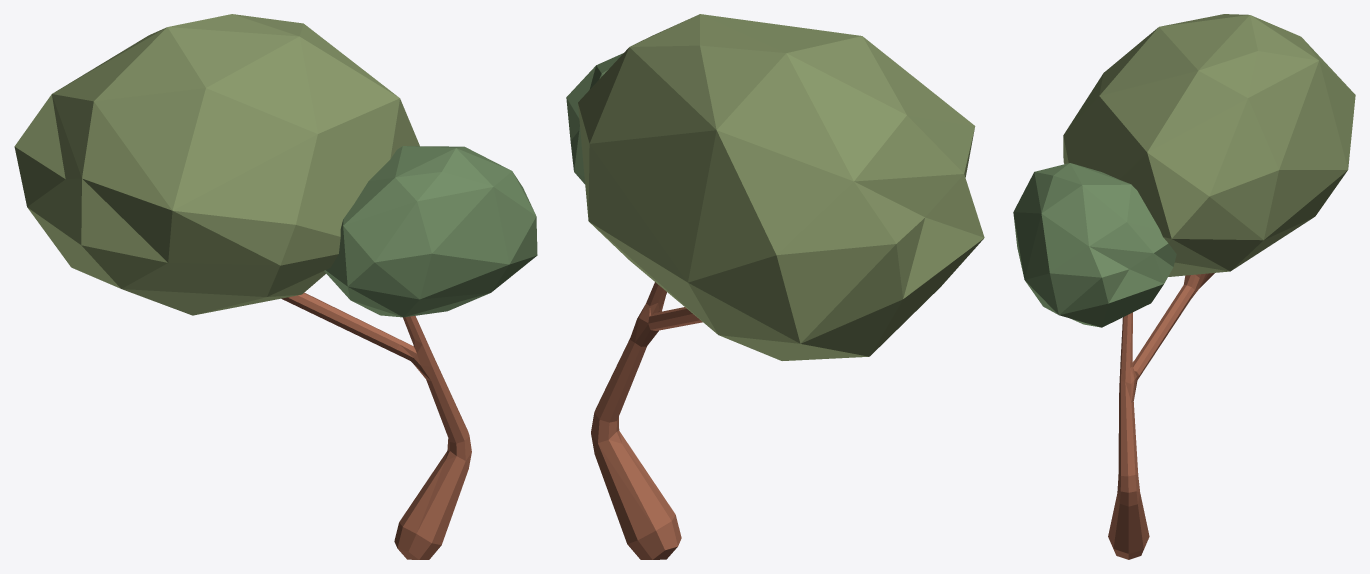
The model's file is tree7.fbx.
3 views of the same model, side by side, from view 1: azimuth 30°, elevation 25°; view 2: azimuth 150°, elevation 25°; view 3: azimuth 270°, elevation 25° (orthographic). The views are drawn at different scales.
Parts seen in each view (by area): view 1: Sphere.016; view 2: Sphere.016; view 3: Sphere.016.
Boxes of the visible parts, left/top/right/bottom form: Sphere.016: left=14, top=14, right=537, bottom=559; Sphere.016: left=566, top=14, right=984, bottom=559; Sphere.016: left=1013, top=14, right=1355, bottom=559.
Bounding box in the file's own units: 565 × 712 × 476.
Materials: 1 (1 with a texture image).
